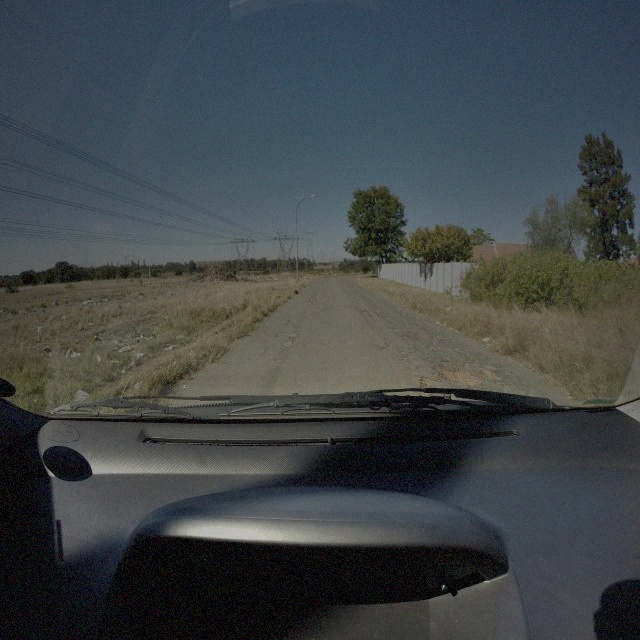pothole: (437, 360, 483, 392), (477, 363, 500, 385), (418, 374, 435, 388), (289, 334, 297, 343), (427, 346, 437, 352), (433, 338, 443, 342)
